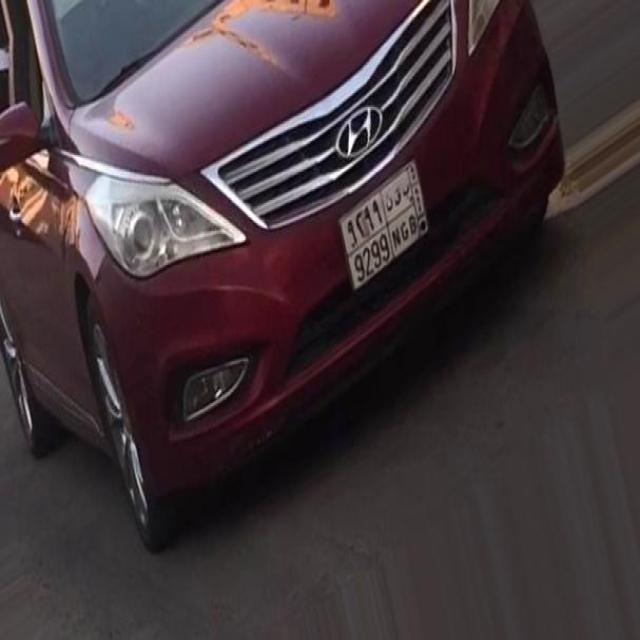Car-plate: (328, 144, 450, 307)
